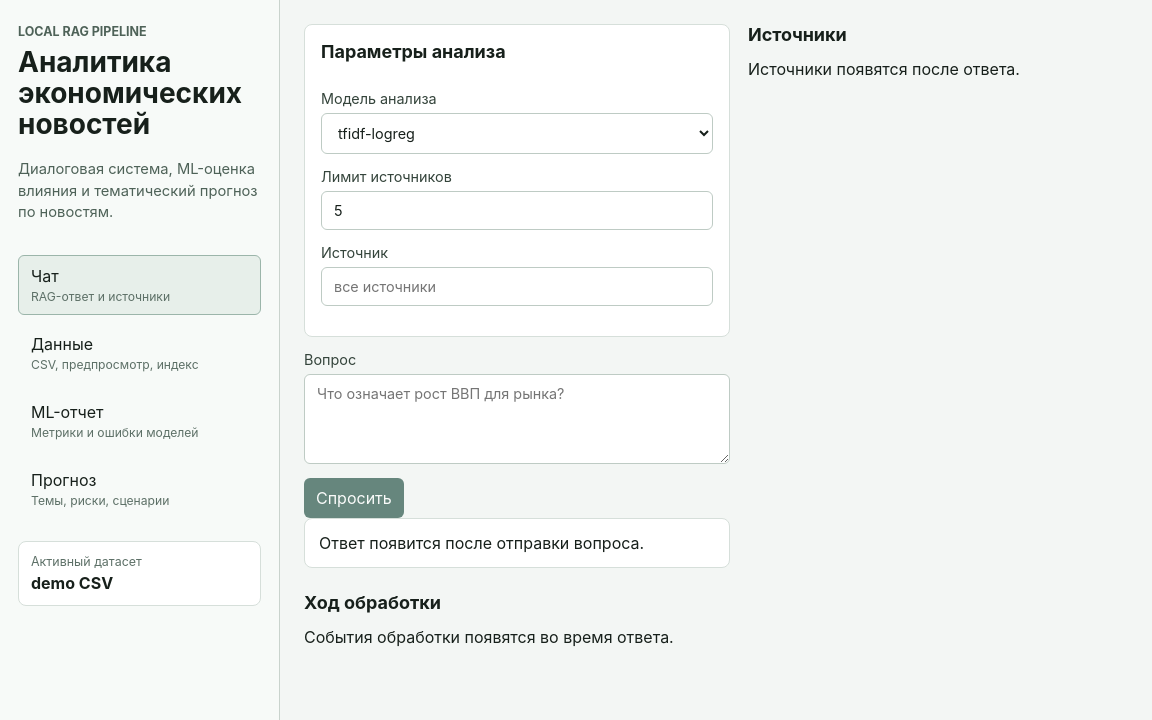
Test case: App › loads preview and indexes the dataset
The width and height of the screenshot is (1152, 720).
Click the button "Данные CSV, предпросмотр, индекс". click: (140, 353)
box: [18,323,261,383]
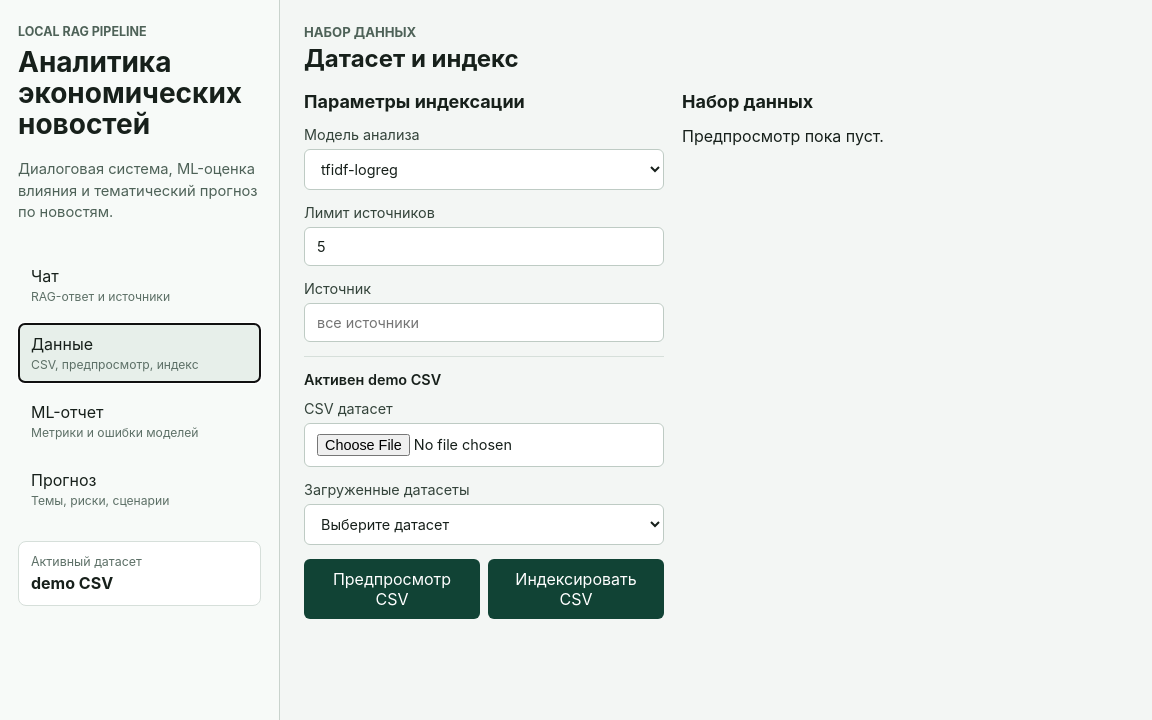
Click the button "Предпросмотр CSV". click: (392, 589)
box: [304,559,480,619]
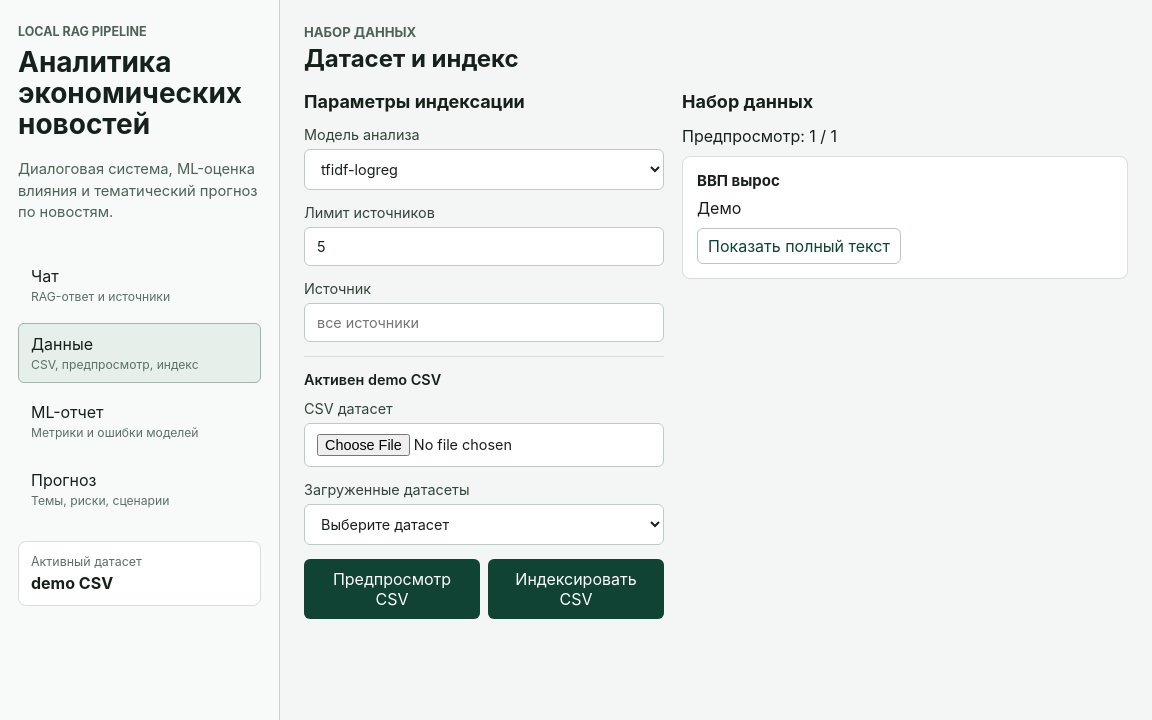
Now the text "Предпросмотр: 1 / 1" is shown, box [682,126,837,146]
Click the button with aria-label "Показать полный текст новости ВВП вырос". click: (799, 246)
box: [697,228,901,264]
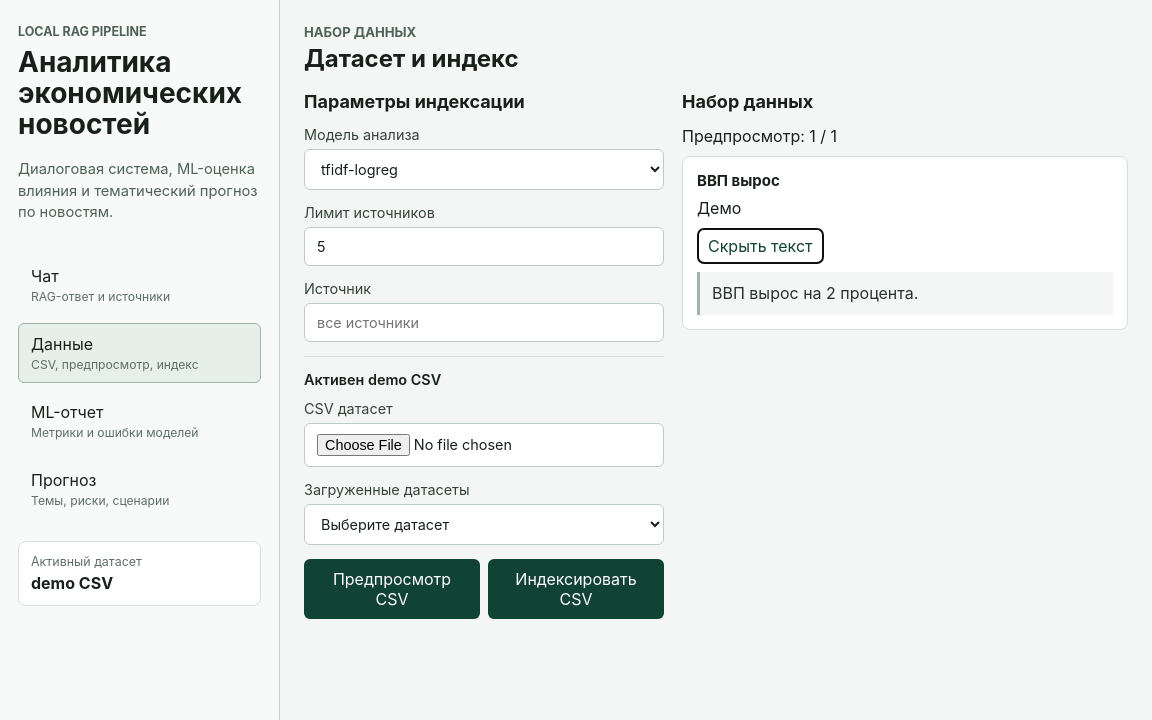
Now the text "ВВП вырос на 2 процента." is shown, box [697,272,1113,315]
Click the button "Индексировать CSV". click: (576, 589)
box: [488,559,664,619]
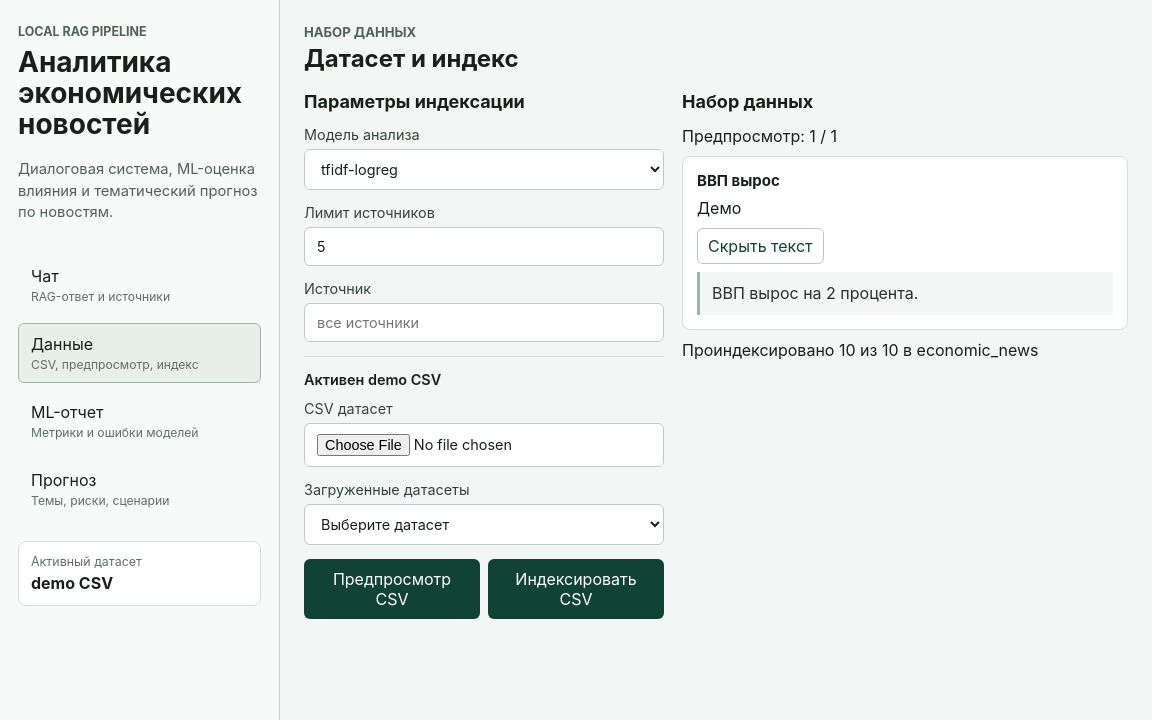
Now the text "Проиндексировано 10 из 10 в economic_news" is shown, box [682,340,1039,360]
